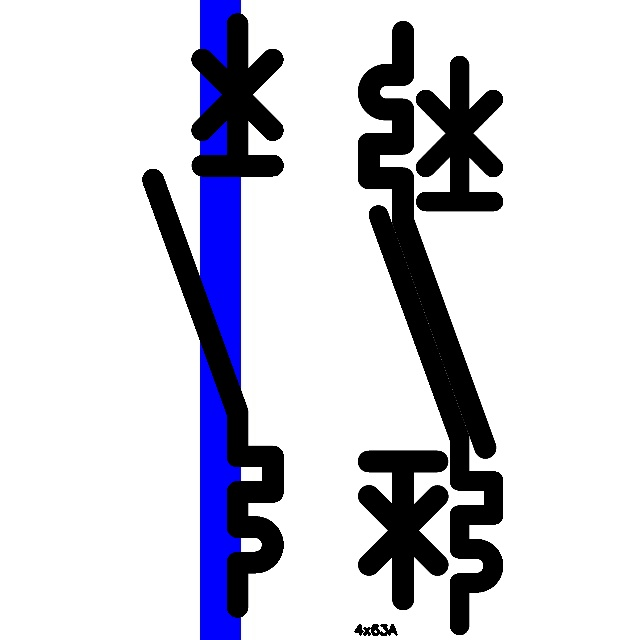interruptor_termomagnetico: (138, 9, 288, 622), (354, 17, 500, 614), (364, 51, 508, 640)
